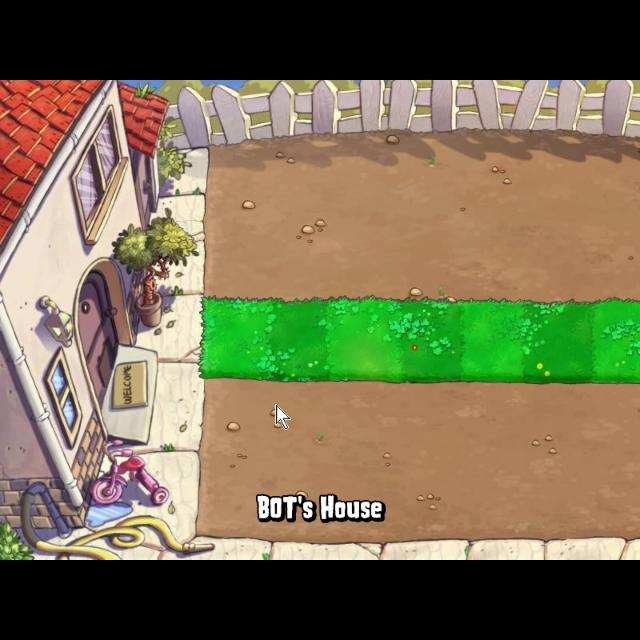Garden: (196, 293, 640, 389)
House Name: (252, 490, 390, 526)
